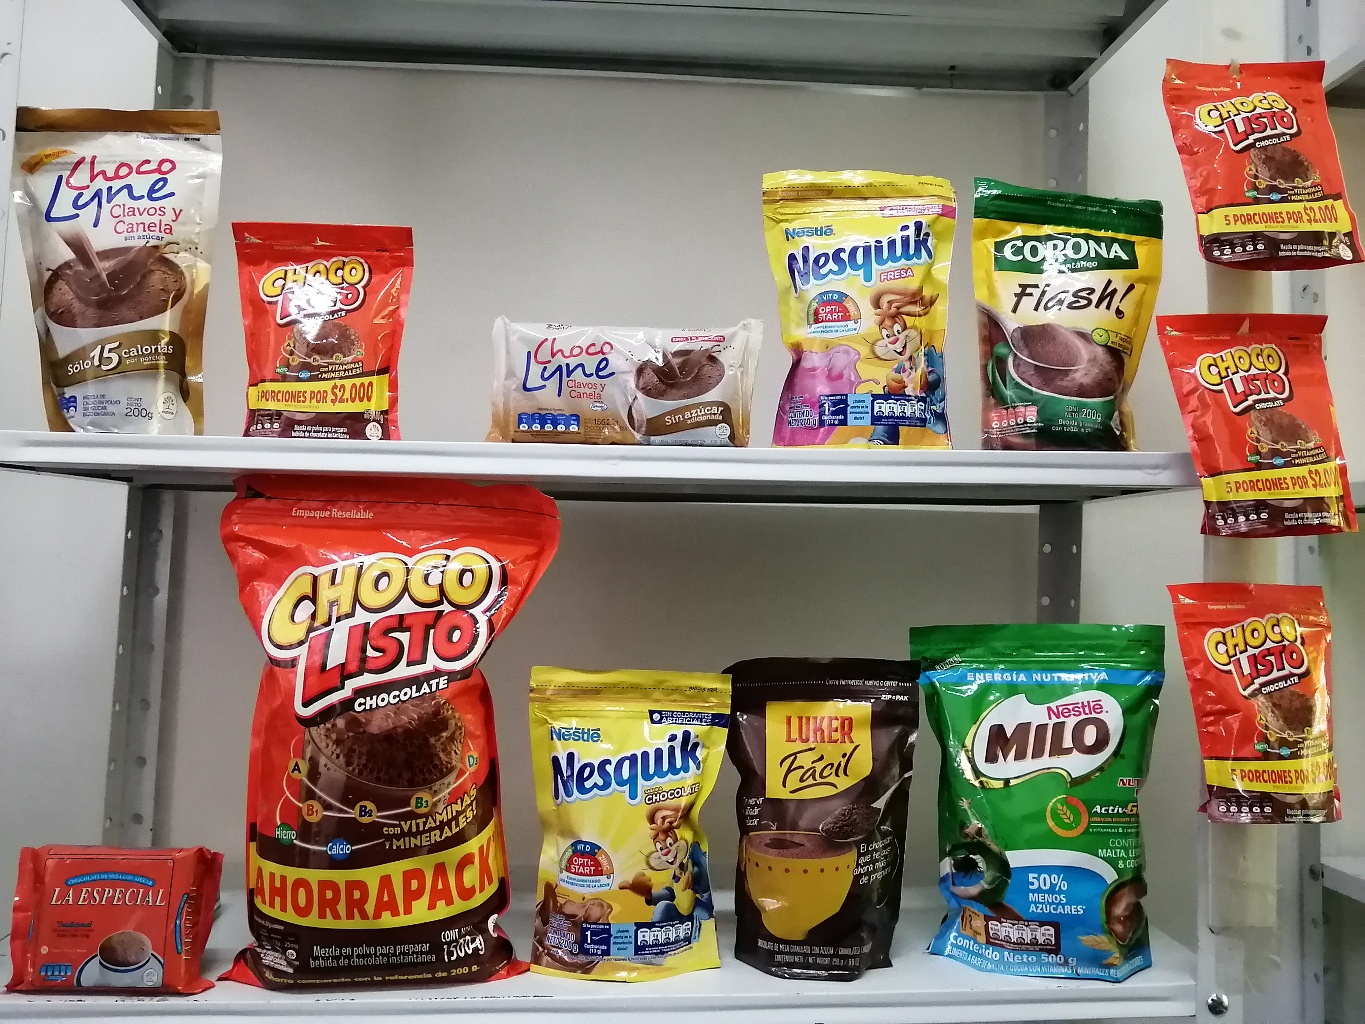COL0170103DYP1,500: (214, 455, 556, 1006)
COL0170205DYP50000: (913, 607, 1180, 998)
COL0170303DYP20000: (517, 667, 733, 982)
COL0170305DYP20000: (756, 159, 977, 458)
